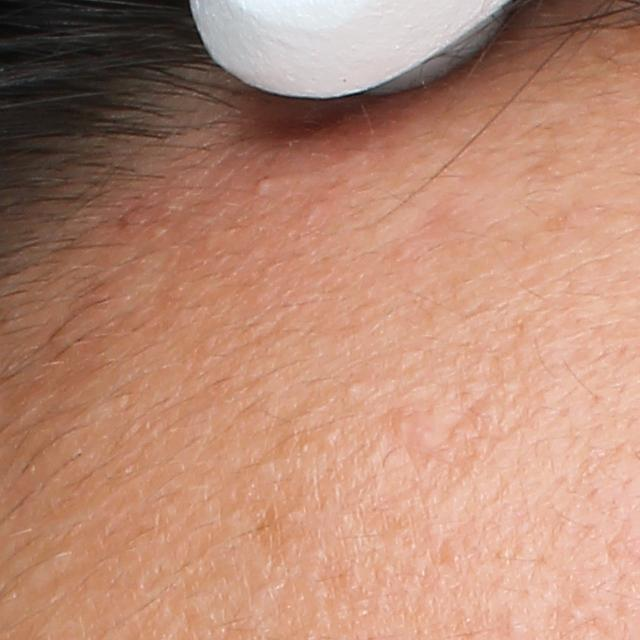comedo: (342, 374, 368, 400)
